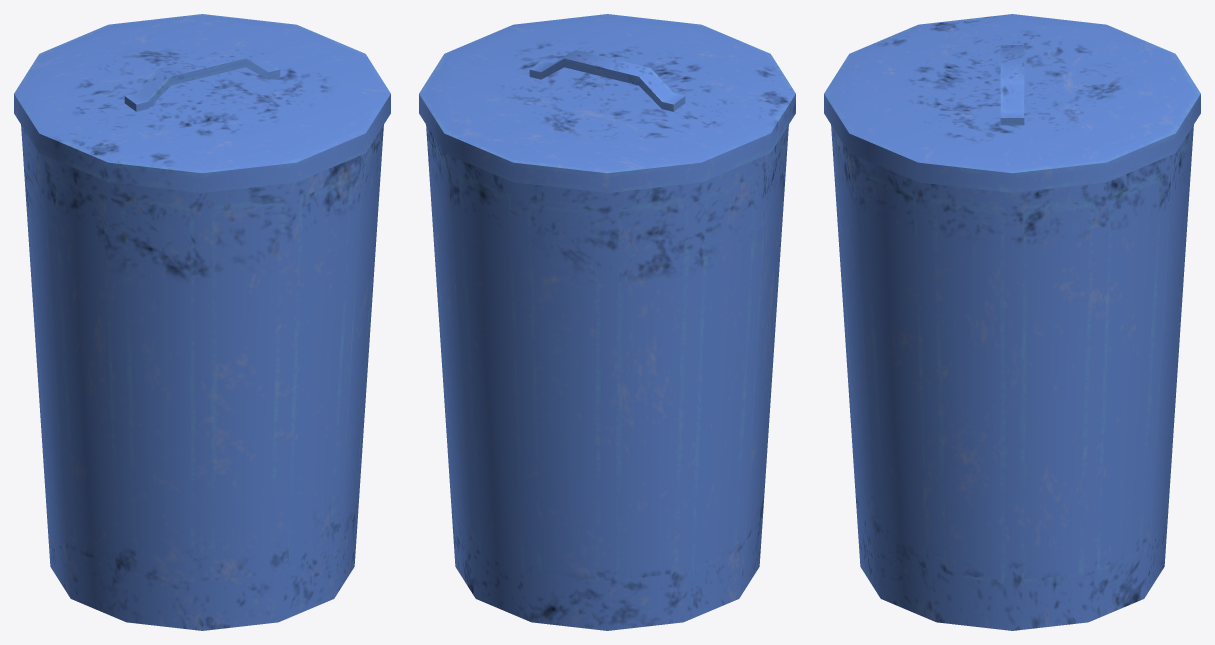
File: TrashCan.fbx
3 views of the same model, side by side, from view 1: azimuth 30°, elevation 25°; view 2: azimuth 150°, elevation 25°; view 3: azimuth 270°, elevation 25° (orthographic).
Visible parts, largest first — view 1: TrashCan, TrashCanLid; view 2: TrashCan, TrashCanLid; view 3: TrashCan, TrashCanLid.
Part boxes in pixels (x1,y1,x2,y2): TrashCan: (21, 125, 383, 630); TrashCanLid: (14, 14, 390, 192); TrashCan: (426, 125, 788, 630); TrashCanLid: (419, 14, 795, 192); TrashCan: (831, 125, 1193, 630); TrashCanLid: (824, 14, 1200, 192).
Bounding box in the file's own units: 0.7222 × 1.06 × 0.7222.
